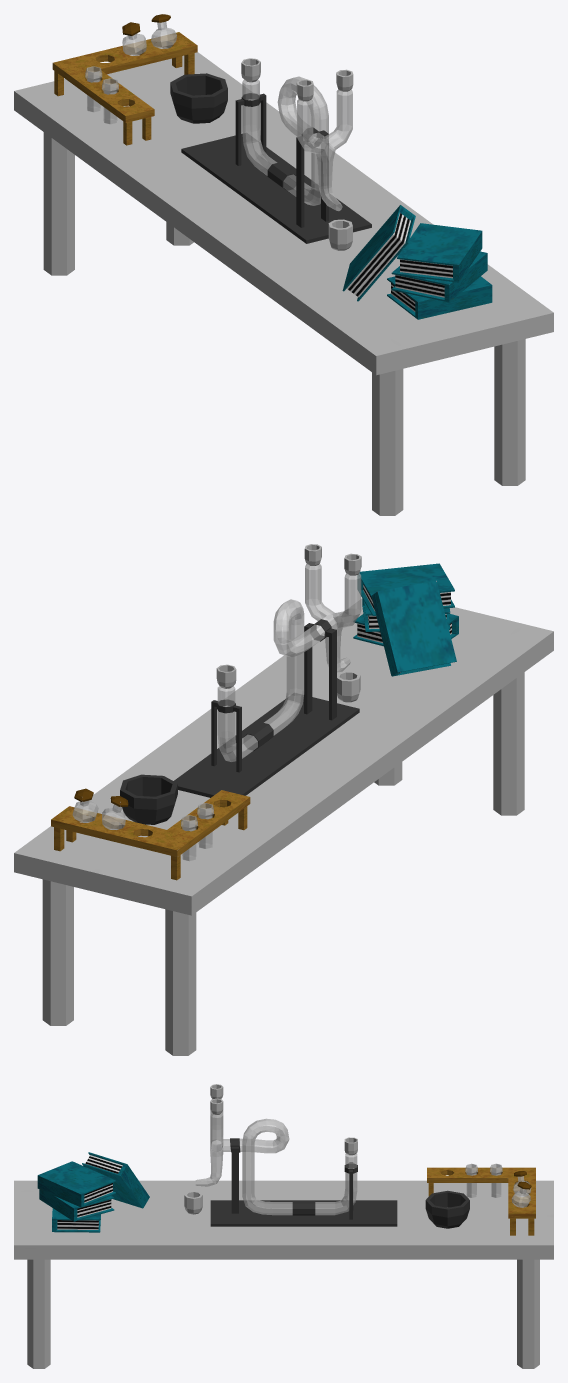
Rendered from Mesa-investigador.obj.
3 renders of one model, top to bottom at view 1: azimuth 30°, elevation 25°; view 2: azimuth 150°, elevation 25°; view 3: azimuth 270°, elevation 25°, orthographic. The views are drawn at different scales.
Parts seen in each view (by area): view 1: Base_investigador.001; view 2: Base_investigador.001; view 3: Base_investigador.001.
Part boxes in pixels (box(x1,y1,x2,y2)): Base_investigador.001: box(14, 14, 553, 515); Base_investigador.001: box(14, 544, 553, 1055); Base_investigador.001: box(14, 1084, 553, 1368).
Bounding box in the file's own units: 3.56 × 6.33 × 12.57.
3 materials, 3 textured.
